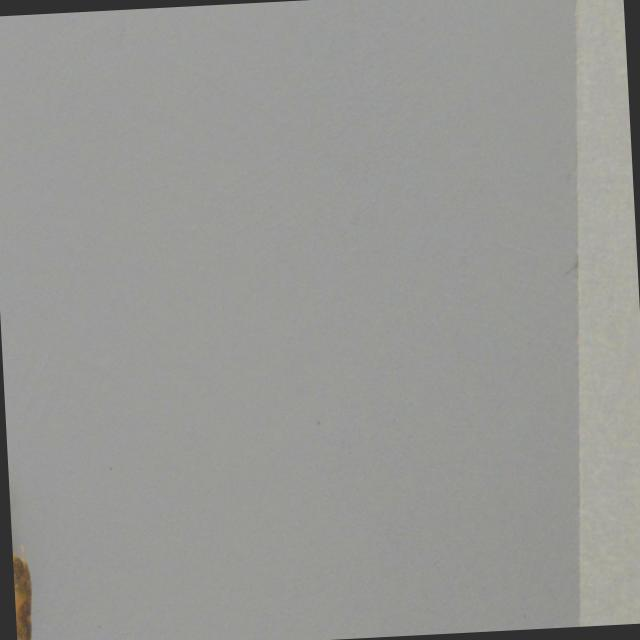cuerpos_extranos: (7, 465, 41, 640)
